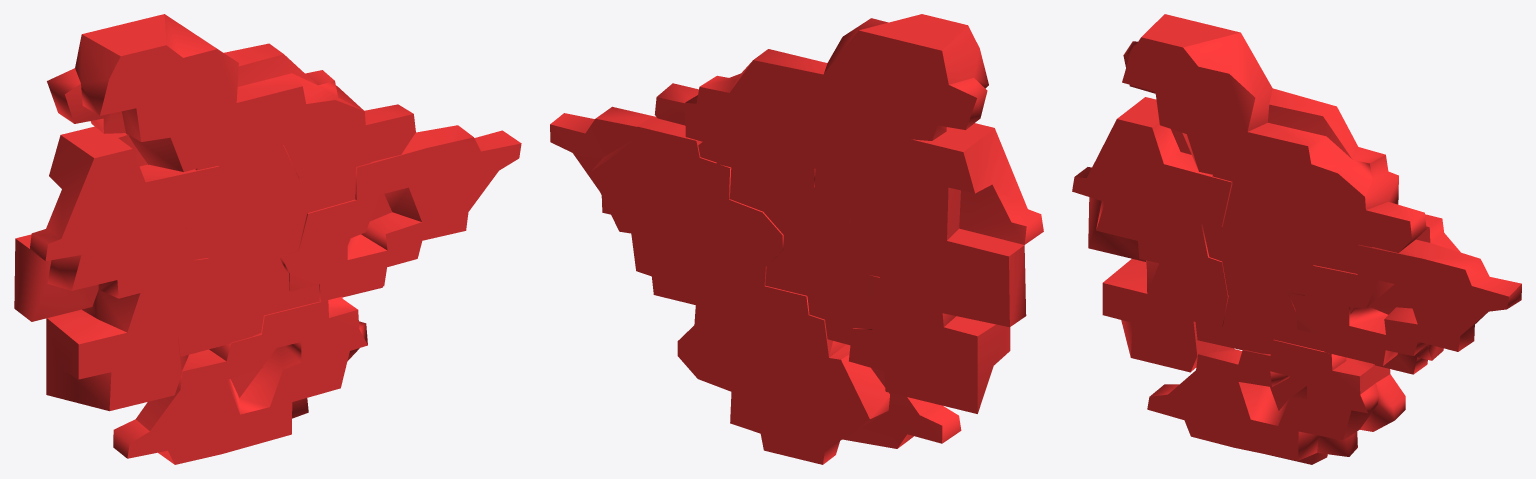
Rendered from DBK_Brick_Prop_Mid_B.fbx.
3 views of the same model, side by side, from view 1: azimuth 30°, elevation 25°; view 2: azimuth 150°, elevation 25°; view 3: azimuth 330°, elevation 25° (orthographic). The views are drawn at different scales.
Visible parts, largest first — view 1: DBK_Brick_Prop_Mid_B; view 2: DBK_Brick_Prop_Mid_B; view 3: DBK_Brick_Prop_Mid_B.
Boxes of the visible parts, <box> form: DBK_Brick_Prop_Mid_B: <box>14,14,521,464</box>; DBK_Brick_Prop_Mid_B: <box>550,14,1043,464</box>; DBK_Brick_Prop_Mid_B: <box>1072,14,1521,464</box>.
Size of the model in its own units: 169 by 150 by 20.
